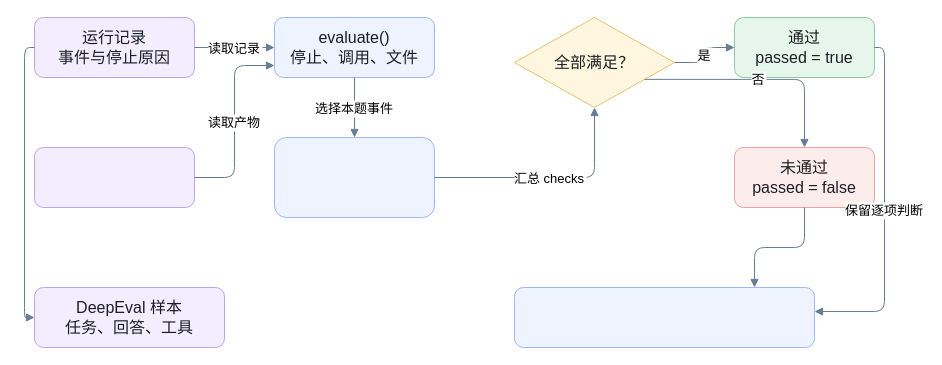
Image size: 942x365. Some labels were removed from this diagram. The box of each missing label's shape, as (x1, y1, x2, y2) in pixels:
保留 checks 解释原因 样本构造不自动评分: (514, 286, 814, 348)
当前文件 按任务核对内容: (34, 146, 194, 208)
本题需要的事件 copy：读取成功 denied：拒绝: (274, 136, 434, 218)
